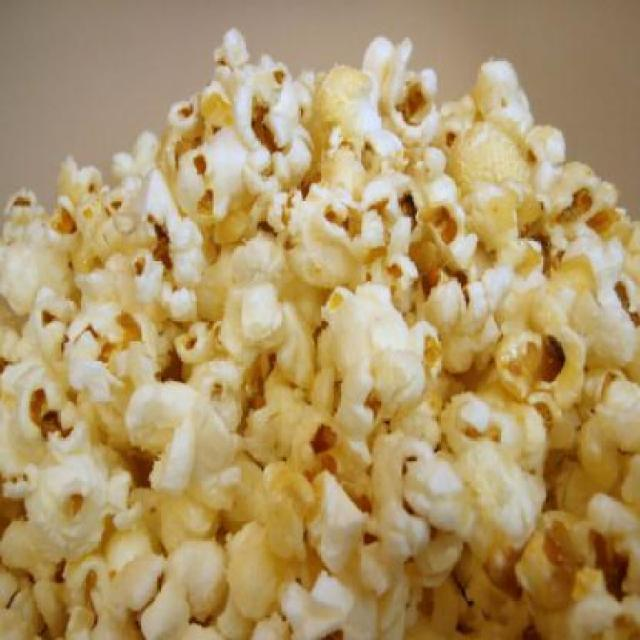Popcorn: (0, 26, 640, 640)
